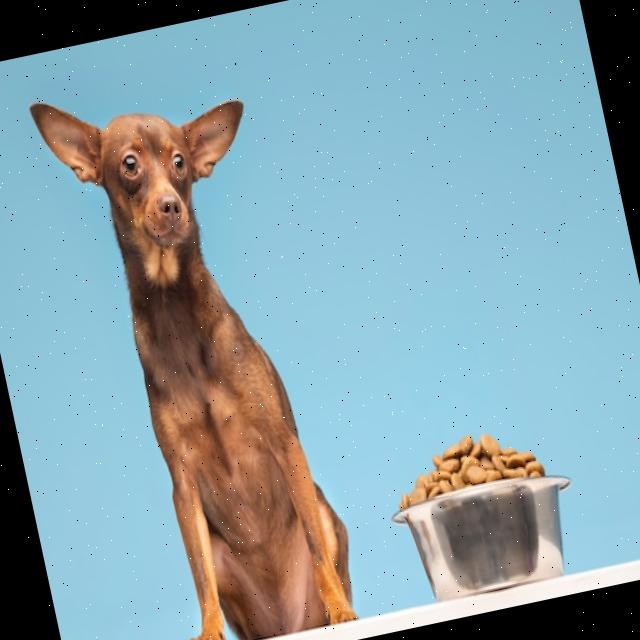Dog: (30, 59, 363, 640)
